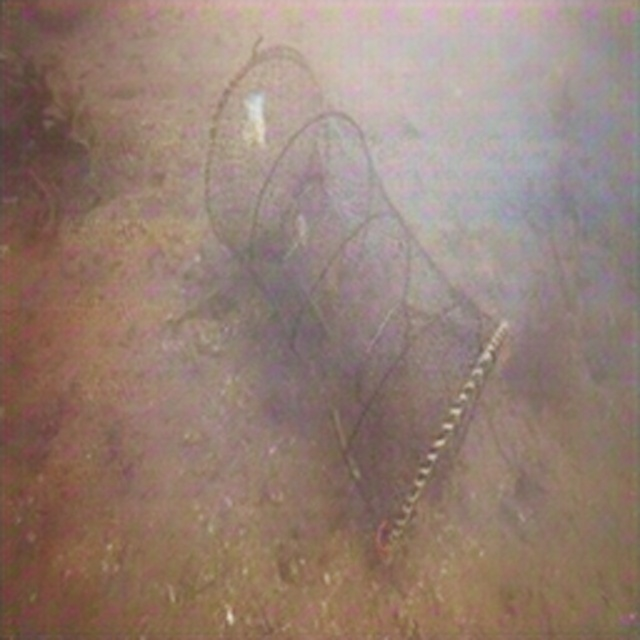mine: (204, 44, 510, 567)
